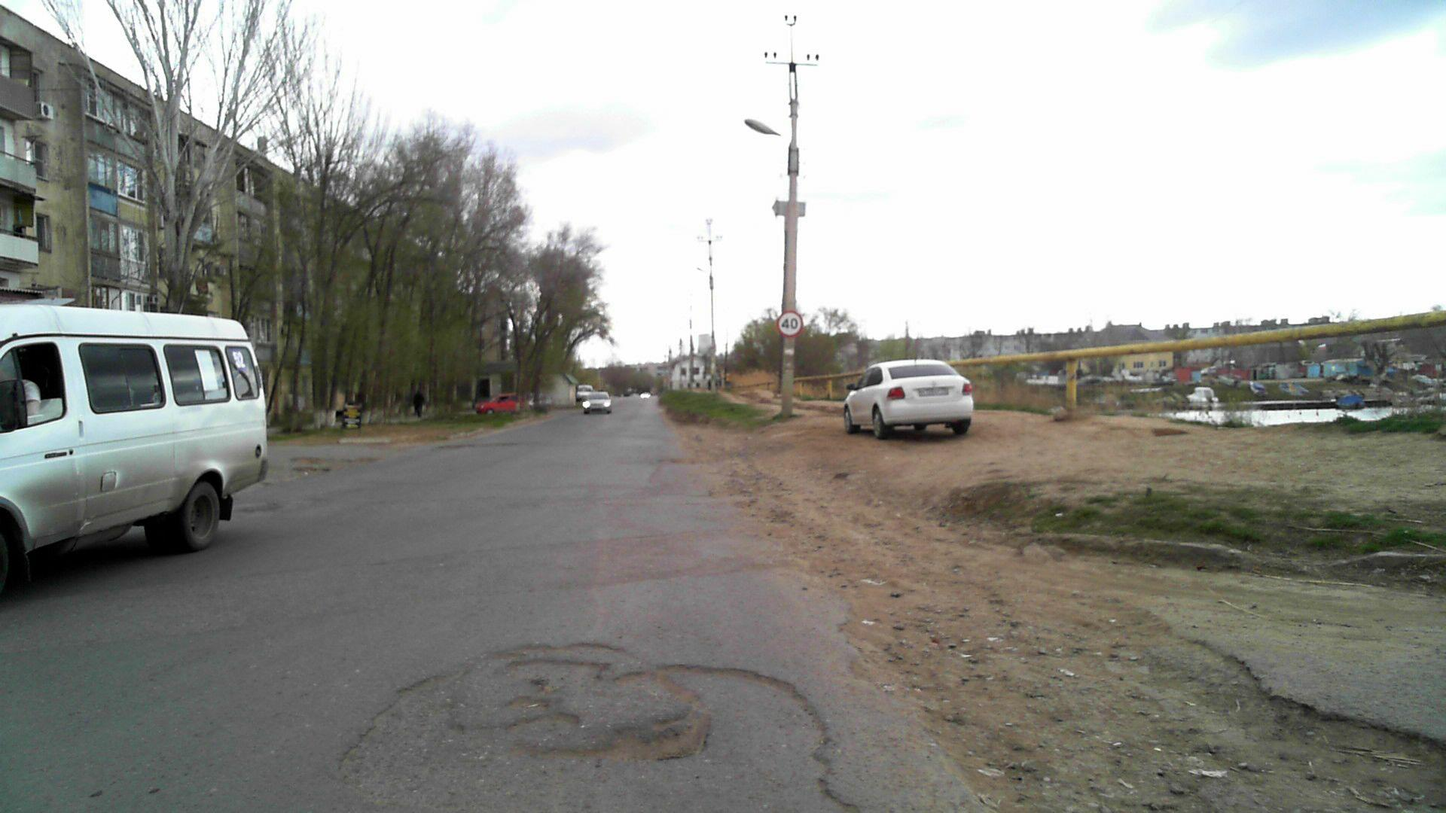pothole: (663, 661, 862, 809), (529, 669, 713, 764), (327, 670, 463, 780), (498, 657, 614, 682), (485, 640, 625, 656), (504, 710, 582, 731), (504, 694, 554, 708), (530, 677, 558, 696)
road_sign: (777, 311, 803, 337)
